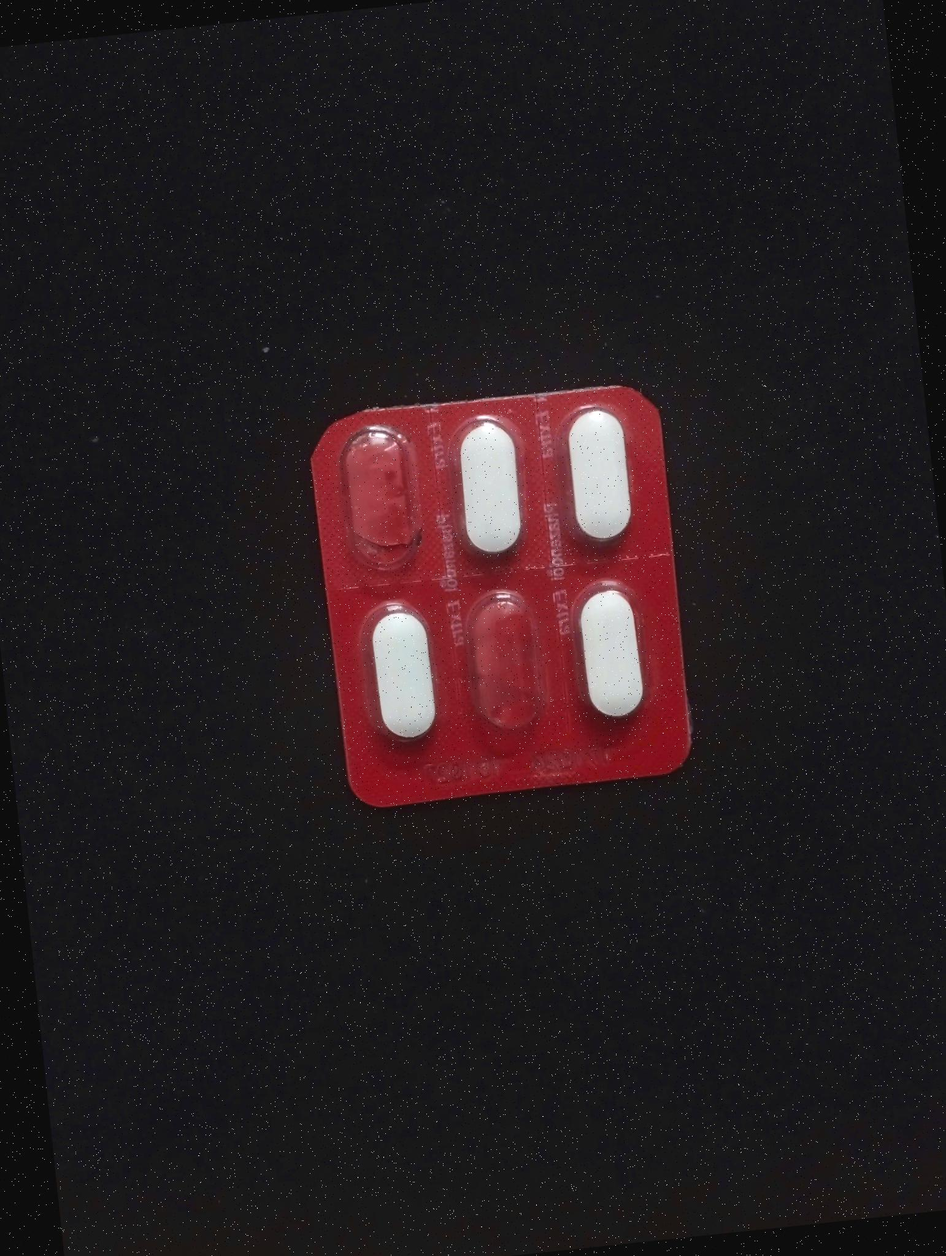Empty: (330, 424, 429, 570), (465, 588, 551, 748)
Full: (553, 576, 653, 734), (358, 594, 445, 747), (556, 399, 637, 554), (445, 413, 522, 566)
